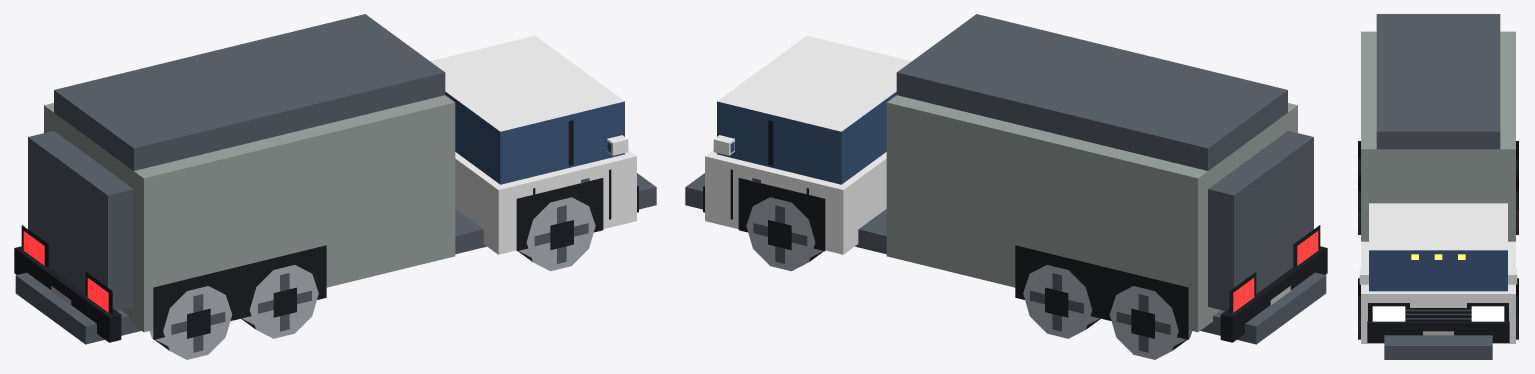
File: truck_garbage.glb
3 views of the same model, side by side, from view 1: azimuth 30°, elevation 25°; view 2: azimuth 150°, elevation 25°; view 3: azimuth 270°, elevation 25° (orthographic). The views are drawn at different scales.
Parts seen in each view (by area): view 1: truck_garbage; view 2: truck_garbage; view 3: truck_garbage.
Part boxes in pixels (<box>): truck_garbage: <box>14,14,656,359</box>; truck_garbage: <box>685,14,1327,359</box>; truck_garbage: <box>1358,14,1518,359</box>.
Bounding box in the file's own units: 0.66 × 0.235 × 0.2124.
